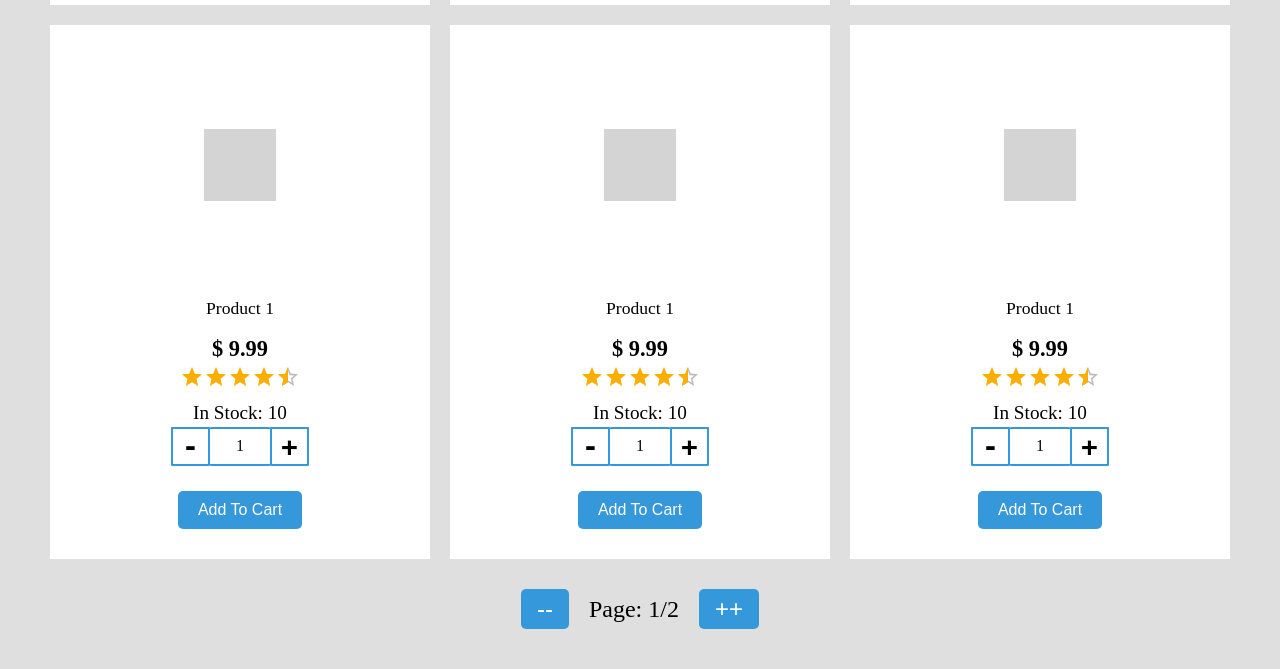
Test: Shop › clicking next and previous page button updates the URL and content
(page scrolled)
Expected: the text "Page: 1/2" is shown, [589,597,679,621]
Click the button "++". click: (729, 609)
box: [699,589,759,629]
(page scrolled)
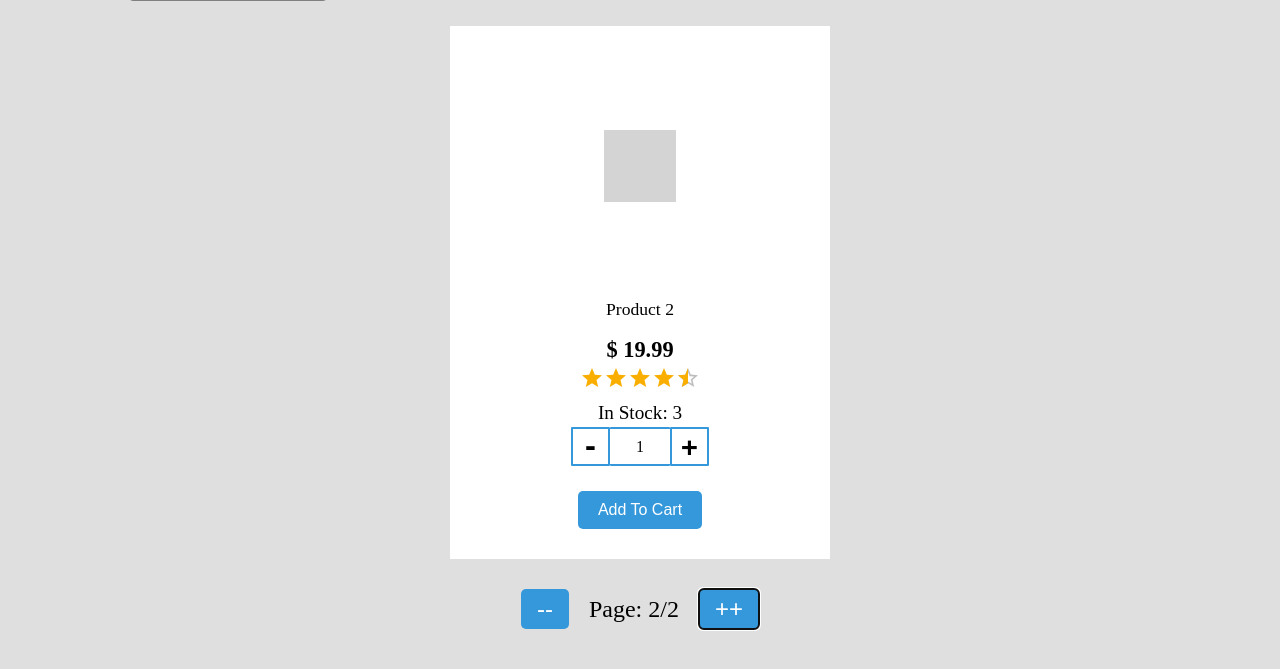
Expected: the text "Product 1" is not shown
Expected: the text "Product 2" is shown, [606,296,674,324]
Expected: the text "Page: 2/2" is shown, [589,597,679,621]
Click the button "--". click: (545, 609)
box: [521,589,569,629]
(page scrolled)
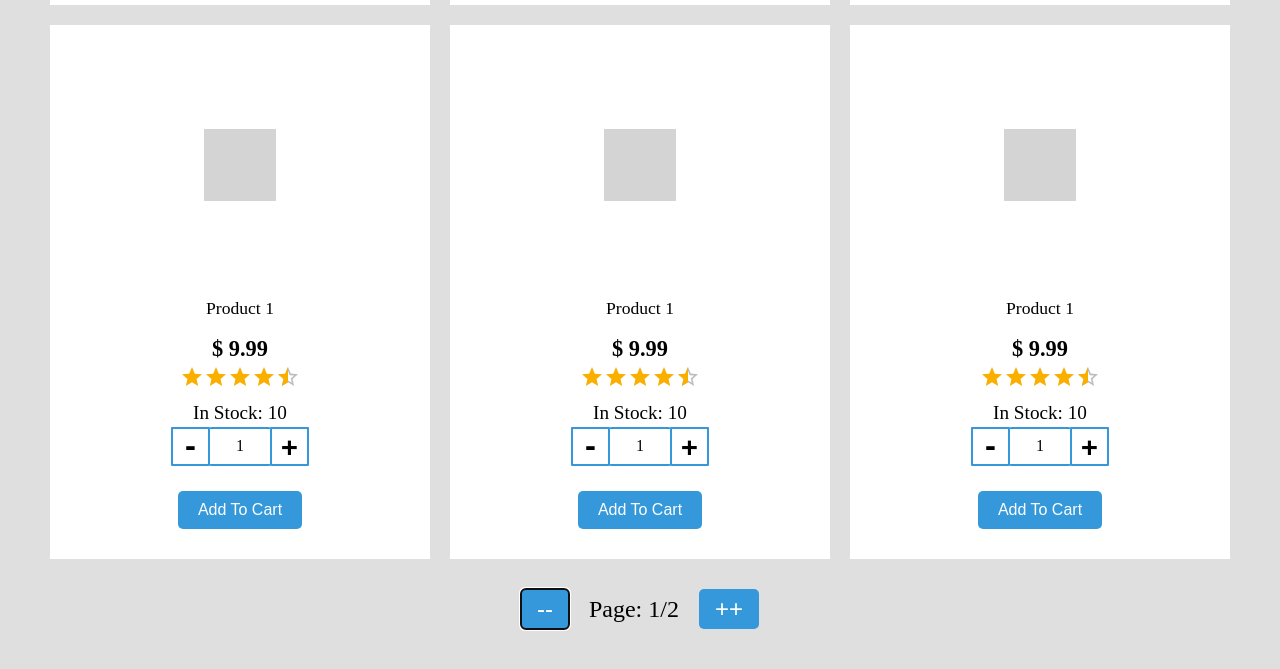
Expected: the text "Product 1" is shown 6 times
Expected: the text "Page: 1/2" is shown, [589,597,679,621]
